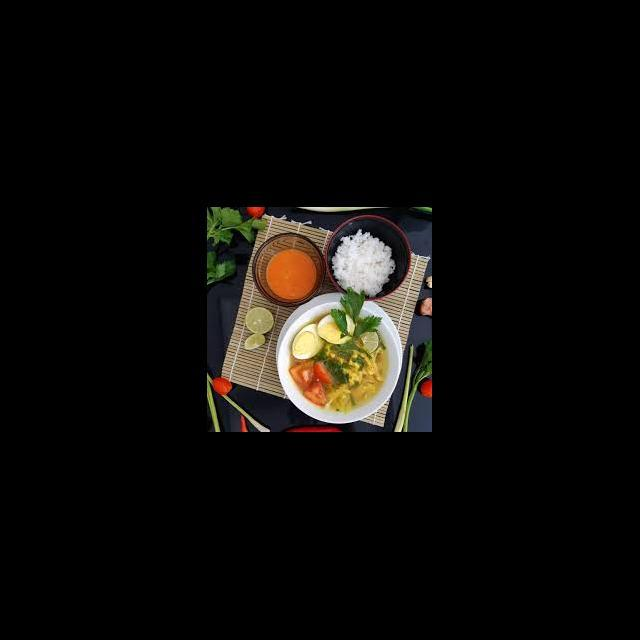Soto: (207, 208, 431, 431)
